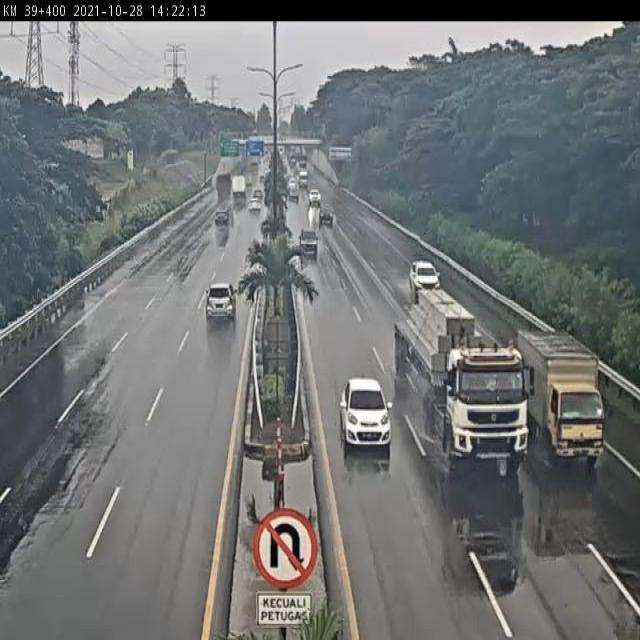car: (337, 371, 393, 457), (205, 280, 238, 324), (408, 260, 443, 296)
truck-s-: (521, 322, 607, 467)
truck-xl-: (398, 289, 529, 462)
